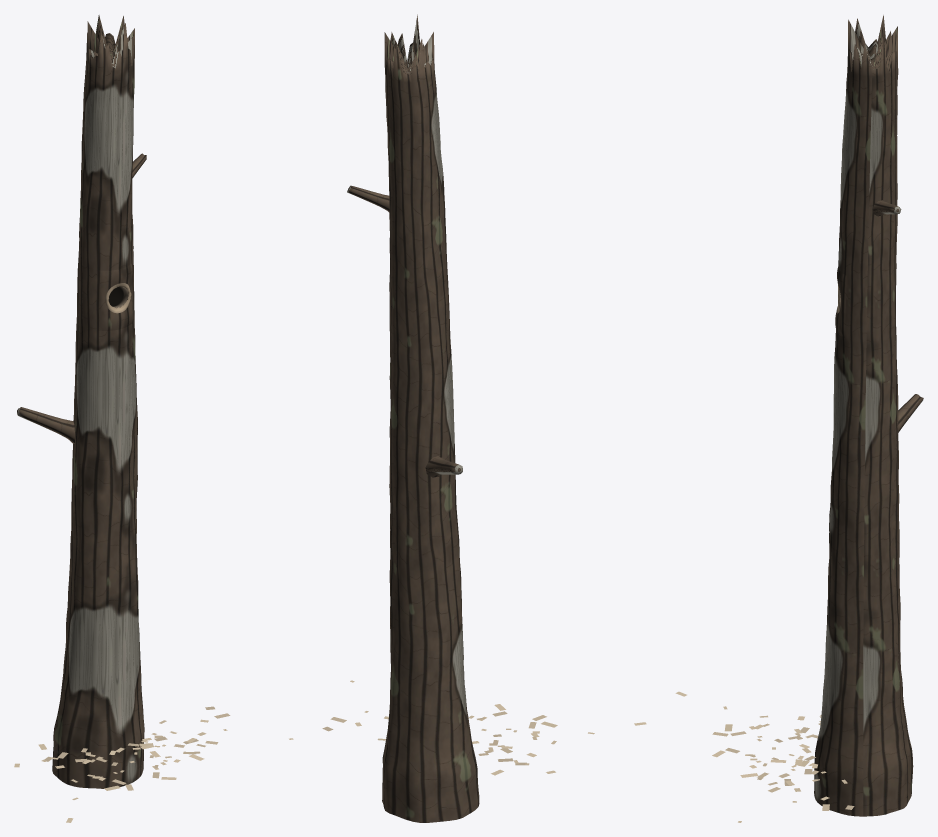
Rendered from barbet_snag.glb.
3 views of the same model, side by side, from view 1: azimuth 30°, elevation 25°; view 2: azimuth 150°, elevation 25°; view 3: azimuth 270°, elevation 25° (orthographic). The views are drawn at different scales.
Visible parts, largest first — view 1: snag_trunk, snag_chips, snag_holeBark, snag_stub0; view 2: snag_trunk, snag_chips; view 3: snag_trunk, snag_chips, snag_holeBark.
Part boxes in pixels (left/top/right/bottom): snag_trunk: left=52, top=15, right=144, bottom=788; snag_chips: left=14, top=706, right=293, bottom=822; snag_holeBark: left=98, top=262, right=133, bottom=330; snag_stub0: left=17, top=407, right=74, bottom=443; snag_trunk: left=382, top=14, right=479, bottom=822; snag_chips: left=322, top=680, right=646, bottom=775; snag_trunk: left=814, top=15, right=913, bottom=816; snag_chips: left=675, top=691, right=854, bottom=822; snag_holeBark: left=835, top=267, right=846, bottom=337.
Bounding box in the file's own units: 1.68 × 4.69 × 1.34.
4 materials, 1 textured.
